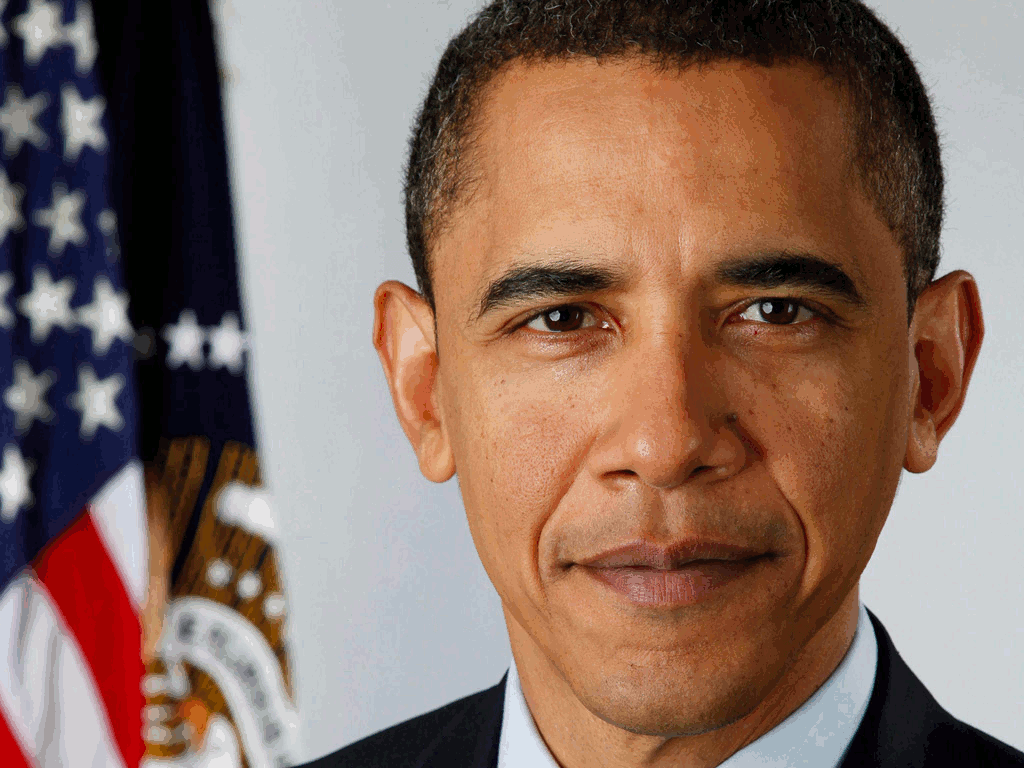no_mask: (414, 47, 946, 731)
